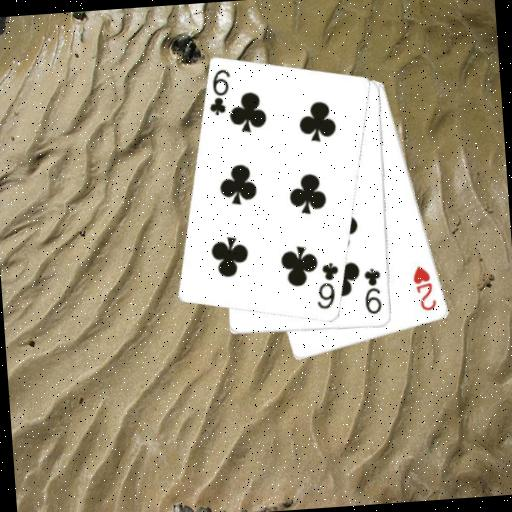2H: (409, 262, 439, 314)
6C: (311, 260, 343, 312), (204, 66, 235, 118)
9C: (360, 265, 385, 317)
